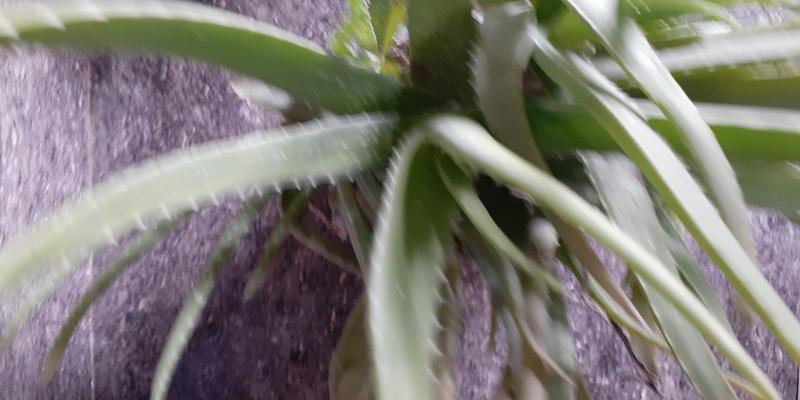Aloevera: (222, 23, 746, 325)
